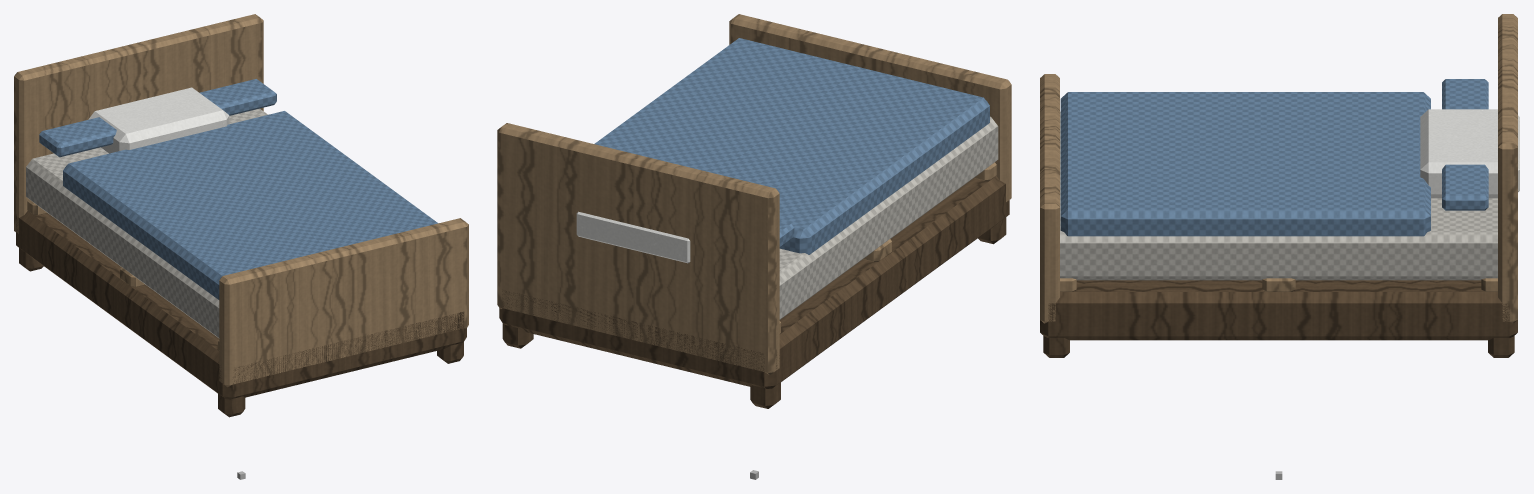
The model's file is rv_furn_bed_single.gltf.
The picture shows the model from 3 angles, left to right: view 1: azimuth 30°, elevation 25°; view 2: azimuth 150°, elevation 25°; view 3: azimuth 270°, elevation 25°; orthographic projection. The views are drawn at different scales.
Parts seen in each view (by area): view 1: RV_Furn_BedSingle; view 2: RV_Furn_BedSingle; view 3: RV_Furn_BedSingle.
Boxes of the visible parts, x1,y1,x2,y2 form: RV_Furn_BedSingle: (14, 14, 468, 479); RV_Furn_BedSingle: (497, 14, 1011, 479); RV_Furn_BedSingle: (1040, 14, 1519, 479).
Bounding box in the file's own units: 0.95 × 1.33 × 1.45.
Materials: 6 (5 with a texture image).
